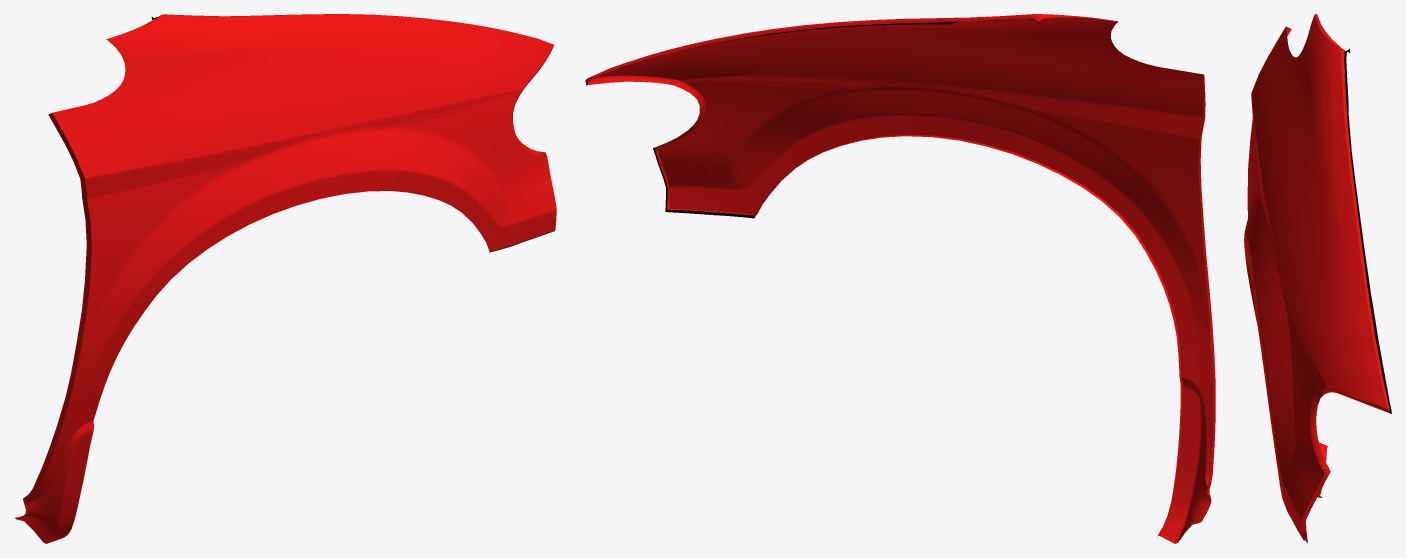
The picture shows the model from 3 angles, left to right: view 1: azimuth 30°, elevation 25°; view 2: azimuth 150°, elevation 25°; view 3: azimuth 270°, elevation 25°; orthographic projection. The views are drawn at different scales.
Parts seen in each view (by area): view 1: N664_9A_141B_R_1_DaS_N664_9A_141B_R, N664_9A_141B_R_1_DaS_N664_9A_141B_R_E; view 2: N664_9A_141B_R_1_DaS_N664_9A_141B_R, N664_9A_141B_R_1_DaS_N664_9A_141B_R_E, N664_9A_141B_R_N664_9A_141B_R_2_D; view 3: N664_9A_141B_R_1_DaS_N664_9A_141B_R, N664_9A_141B_R_1_DaS_N664_9A_141B_R_E, N664_9A_141B_R_N664_9A_141B_R_2_D.
Boxes of the visible parts, x1,y1,x2,y2 form: N664_9A_141B_R_1_DaS_N664_9A_141B_R: (17,14,556,543); N664_9A_141B_R_1_DaS_N664_9A_141B_R_E: (14,14,553,519); N664_9A_141B_R_1_DaS_N664_9A_141B_R: (599,17,1213,543); N664_9A_141B_R_1_DaS_N664_9A_141B_R_E: (585,14,1215,536); N664_9A_141B_R_N664_9A_141B_R_2_D: (586,18,1039,218); N664_9A_141B_R_1_DaS_N664_9A_141B_R: (1244,15,1387,539); N664_9A_141B_R_1_DaS_N664_9A_141B_R_E: (1245,14,1390,540); N664_9A_141B_R_N664_9A_141B_R_2_D: (1306,48,1391,543).
Size of the model in its own units: 106 by 87.26 by 23.03.
